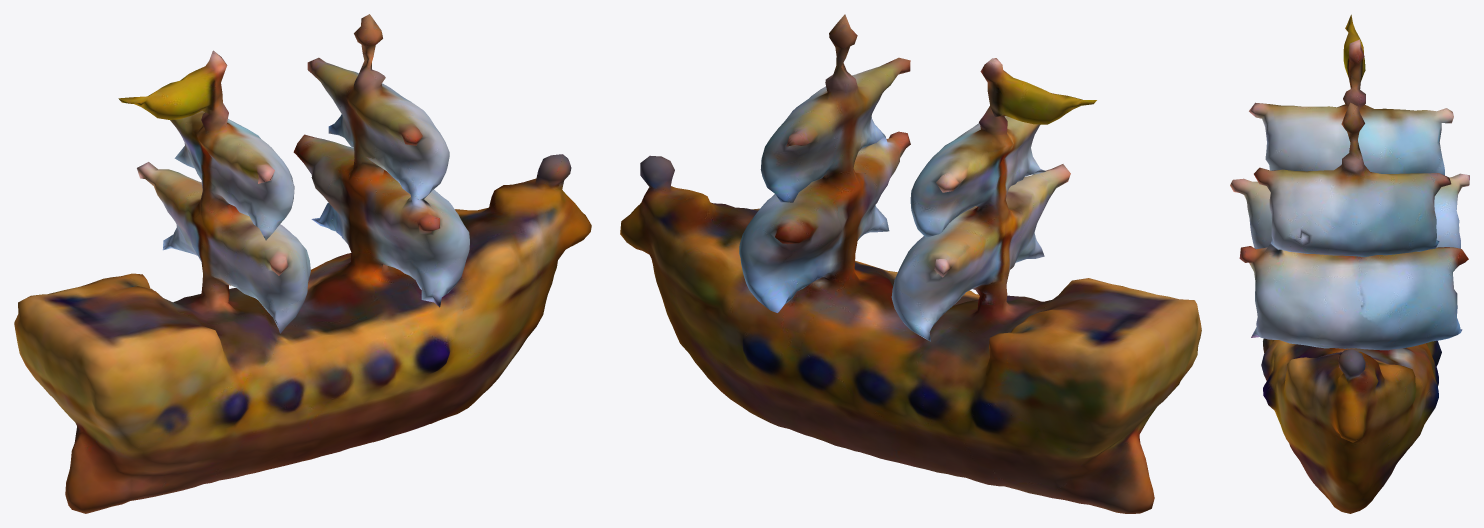
The model's file is ship3.glb.
The picture shows the model from 3 angles, left to right: view 1: azimuth 30°, elevation 25°; view 2: azimuth 150°, elevation 25°; view 3: azimuth 270°, elevation 25°; orthographic projection. The views are drawn at different scales.
Parts seen in each view (by area): view 1: Mesh1.002; view 2: Mesh1.002; view 3: Mesh1.002.
Boxes of the visible parts, x1=… form: Mesh1.002: x1=14, y1=14, x2=591, y2=513; Mesh1.002: x1=620, y1=14, x2=1201, y2=513; Mesh1.002: x1=1230, y1=14, x2=1469, y2=513.
Size of the model in its own units: 2.55 by 1.9 by 1.09.
1 material, 1 textured.
